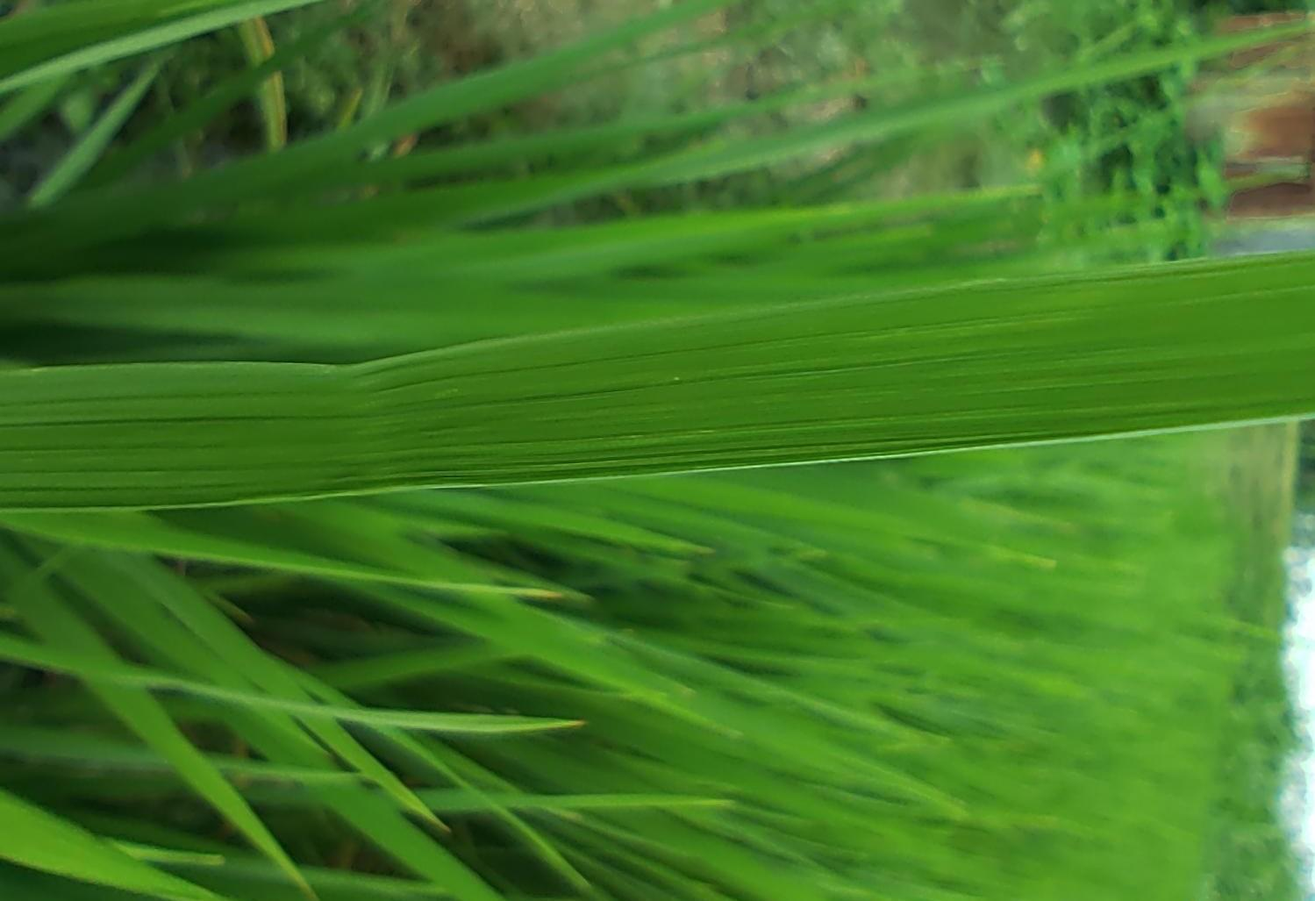Healthy: (1, 256, 1314, 511)
